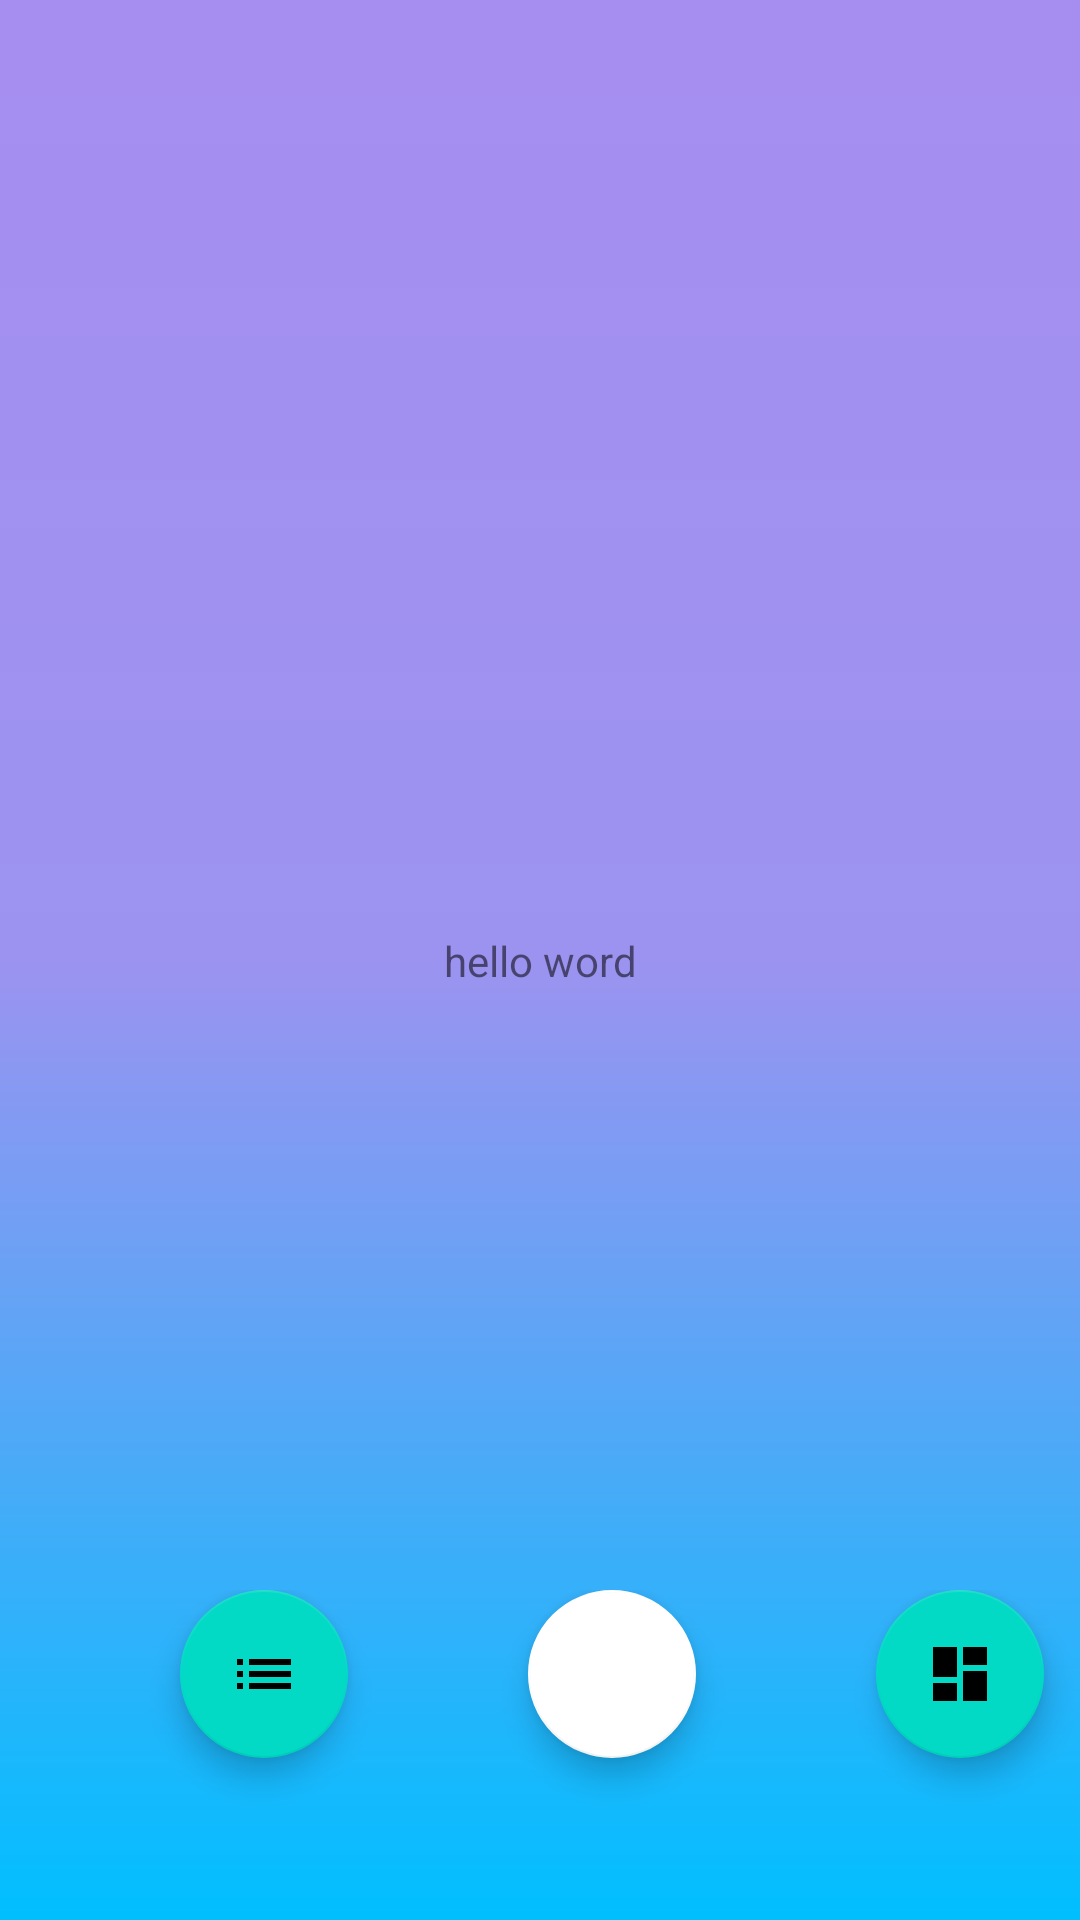

Icon click points for this 1080w x 1920h phone screenshot, format point (x, y):
dashboard: point (960, 1674)
list: point (264, 1674)
